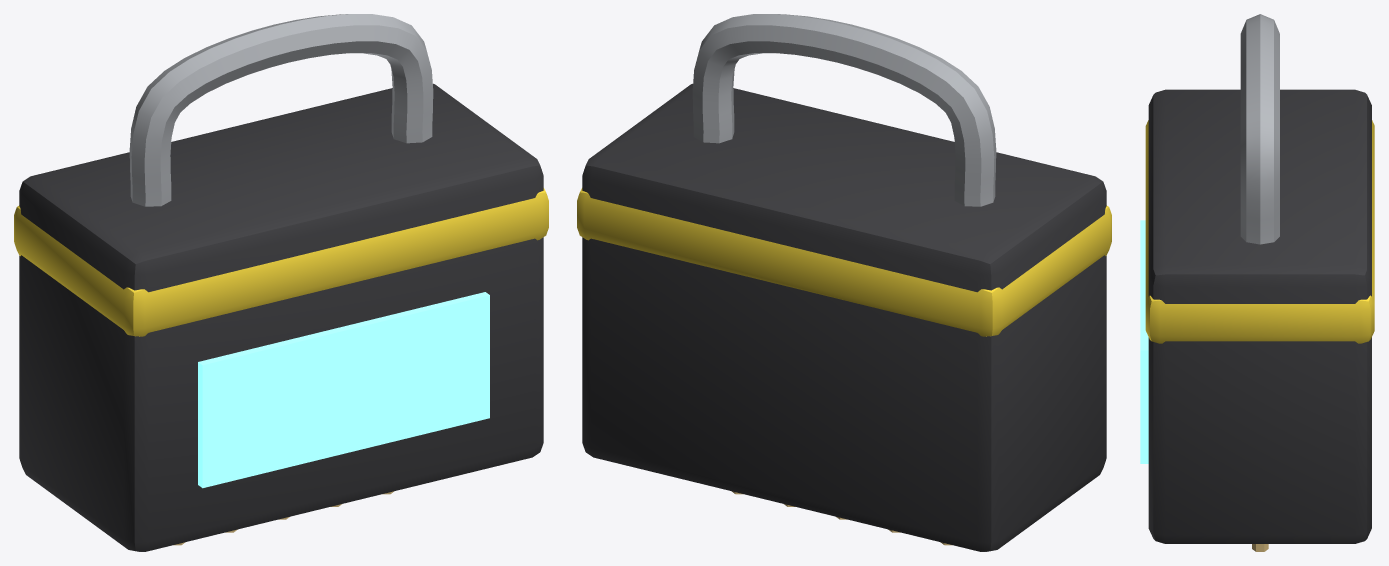
Rendered from SM_FuseModule.fbx.
3 renders of one model, left to right at view 1: azimuth 30°, elevation 25°; view 2: azimuth 150°, elevation 25°; view 3: azimuth 270°, elevation 25°, orthographic. The views are drawn at different scales.
Visible parts, largest first — view 1: SM_FuseModule; view 2: SM_FuseModule; view 3: SM_FuseModule.
Part boxes in pixels (x1,y1,x2,y2): SM_FuseModule: [14, 14, 548, 551]; SM_FuseModule: [577, 14, 1111, 551]; SM_FuseModule: [1140, 14, 1374, 551].
Size of the model in its own units: 0.162 by 0.18 by 0.084.
